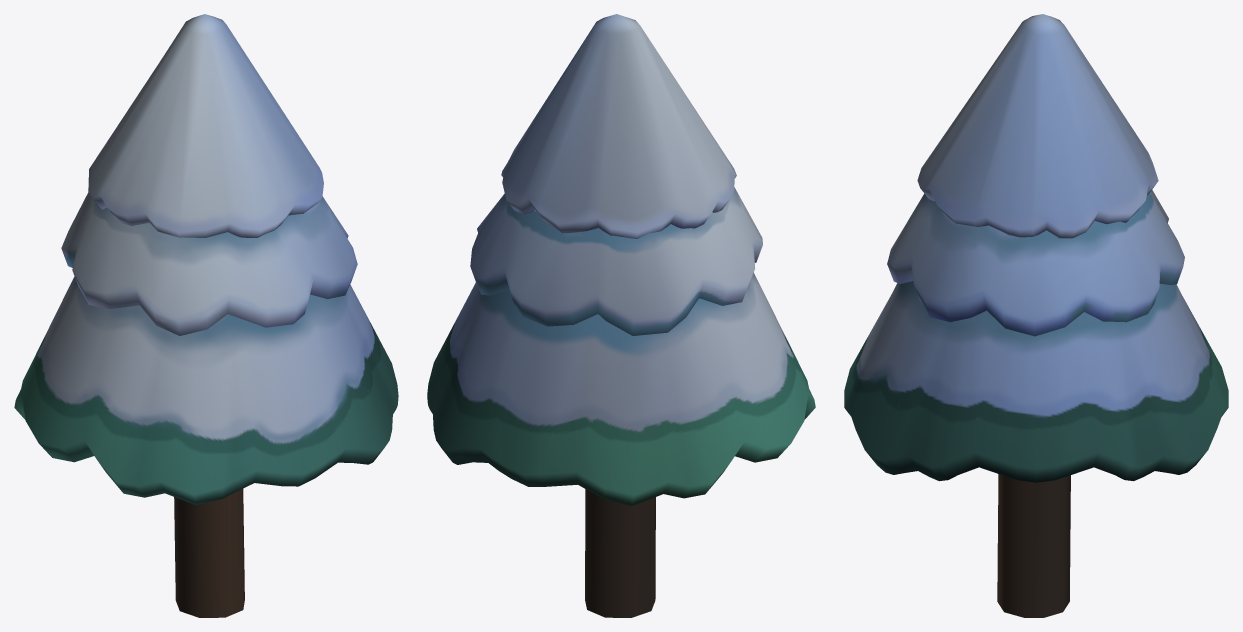
The model's file is RPGBattle_BridgeFloor10_tree2.fbx.
3 renders of one model, left to right at view 1: azimuth 30°, elevation 25°; view 2: azimuth 150°, elevation 25°; view 3: azimuth 270°, elevation 25°, orthographic.
Visible parts, largest first — view 1: RPGBattle_BridgeFloor10_tree2; view 2: RPGBattle_BridgeFloor10_tree2; view 3: RPGBattle_BridgeFloor10_tree2.
Part boxes in pixels (x1,y1,x2,y2): RPGBattle_BridgeFloor10_tree2: (14,14,398,617); RPGBattle_BridgeFloor10_tree2: (427,14,815,617); RPGBattle_BridgeFloor10_tree2: (844,14,1228,617).
Size of the model in its own units: 608 by 1023 by 605.
Materials: 1 (1 with a texture image).
